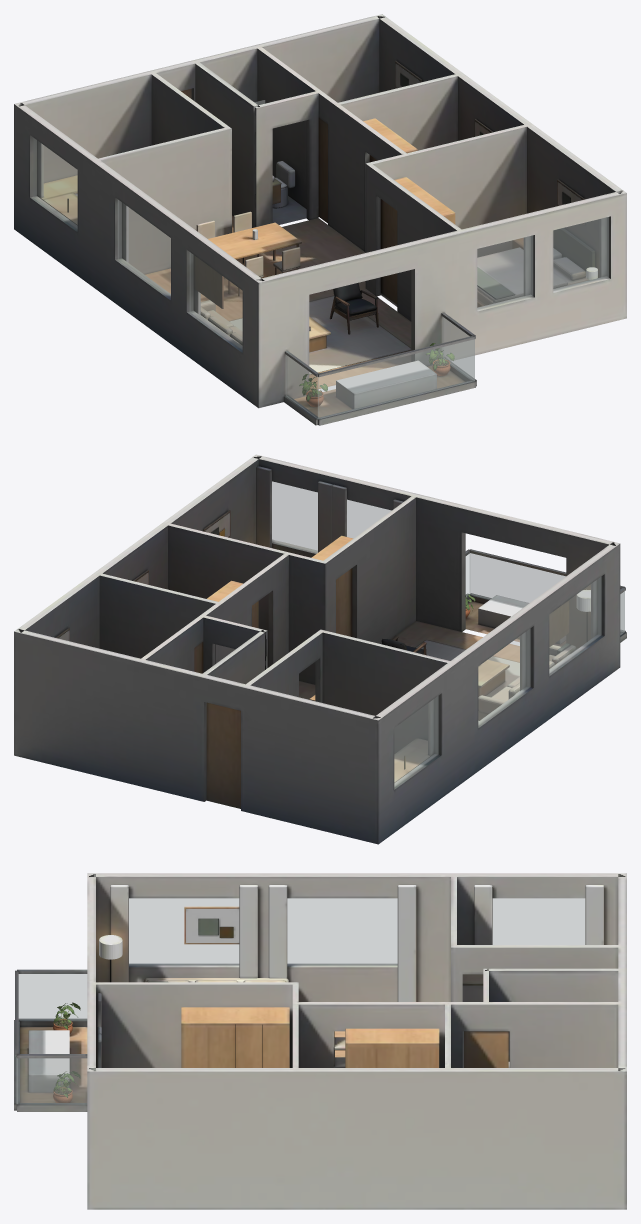
Rendered from tres-alcobas.glb.
3 views of the same model, one above another, from view 1: azimuth 30°, elevation 25°; view 2: azimuth 150°, elevation 25°; view 3: azimuth 270°, elevation 25° (orthographic). The views are drawn at different scales.
Visible parts, largest first — view 1: horneado, Cube.013, potted_plant_02_pot; view 2: horneado, Cube.013; view 3: horneado, Cube.013, potted_plant_02_pot.
Part boxes in pixels (x1,y1,x2,y2): horneado: (14, 14, 626, 425); Cube.013: (33, 100, 608, 418); potted_plant_02_pot: (299, 343, 454, 406); horneado: (14, 454, 626, 844); Cube.013: (272, 481, 624, 785); horneado: (14, 873, 626, 1209); Cube.013: (16, 898, 584, 1104); potted_plant_02_pot: (53, 1002, 80, 1102).
Size of the model in its own units: 8 by 2.6 by 10.45.
Materials: 4 (3 with a texture image).
